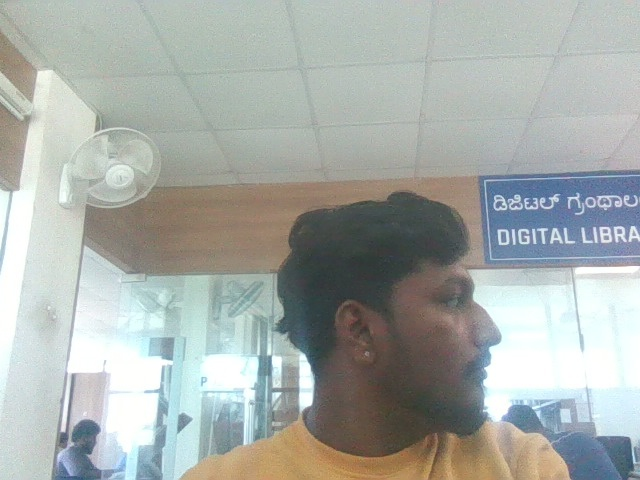real: (350, 192, 506, 413)
